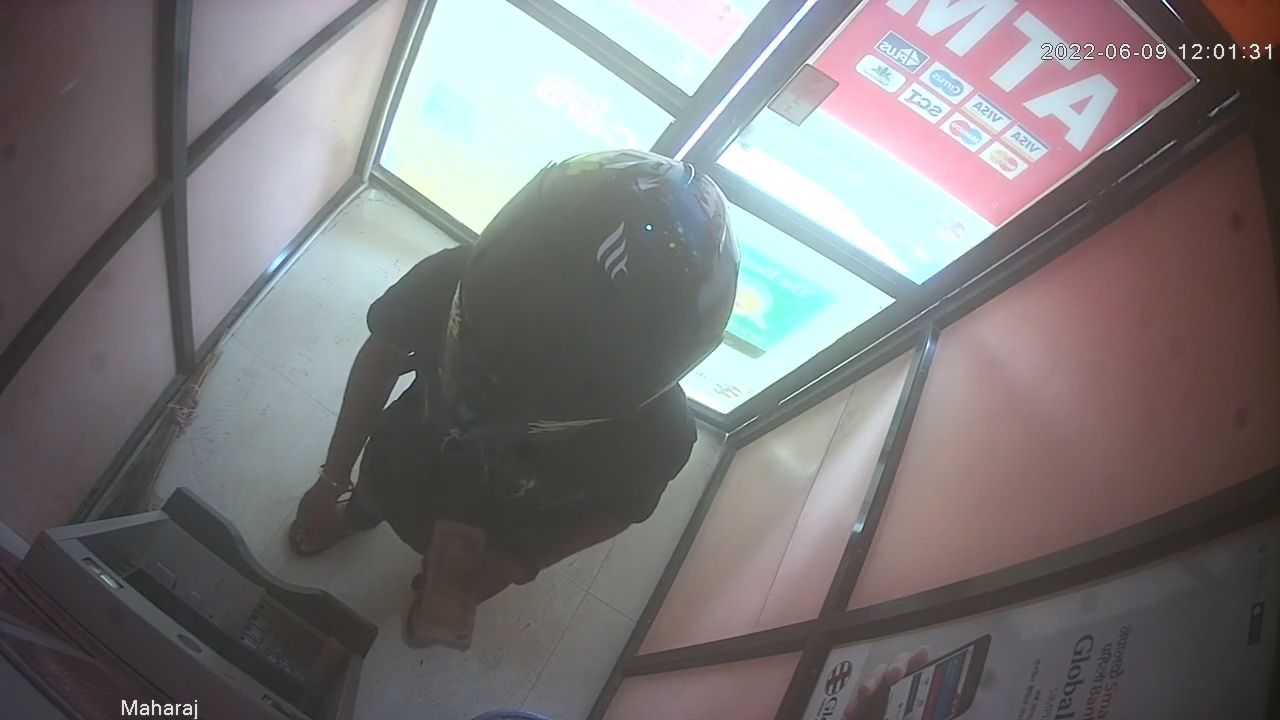helmet: (431, 146, 738, 438)
person: (286, 147, 739, 654)
